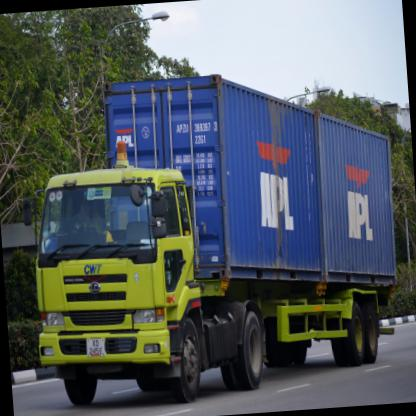truck: (27, 159, 212, 416)
